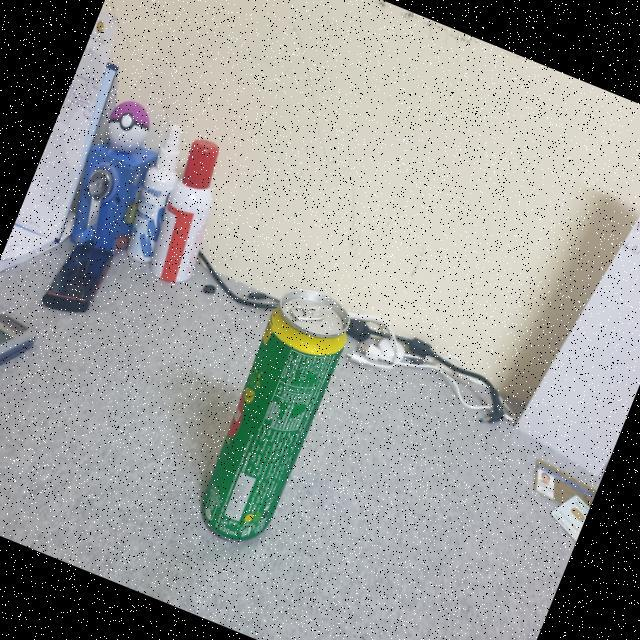debris: (178, 265, 371, 566)
